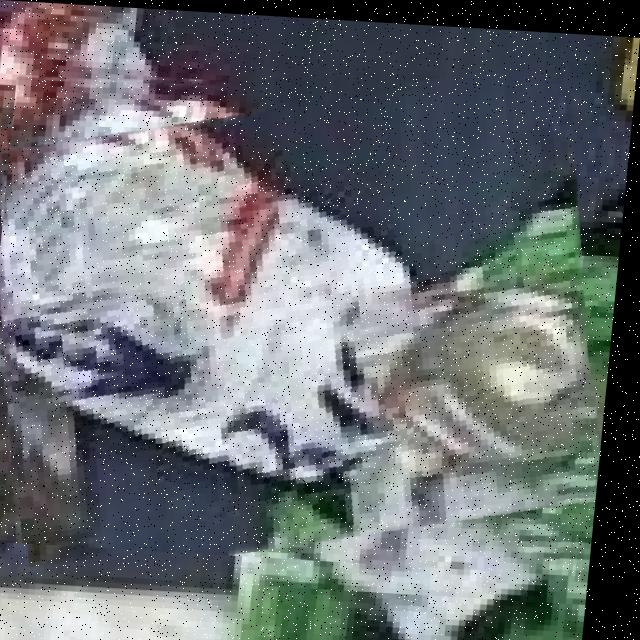can: (0, 54, 627, 568)
